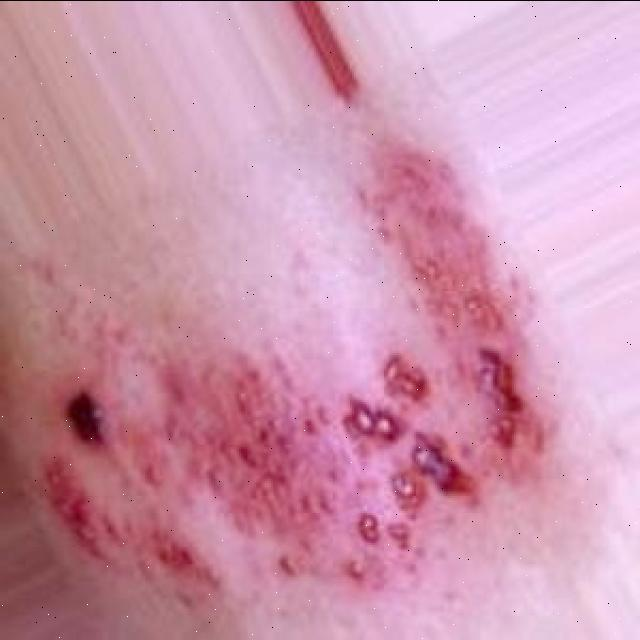Shingles: (31, 344, 473, 607), (361, 133, 544, 480)
